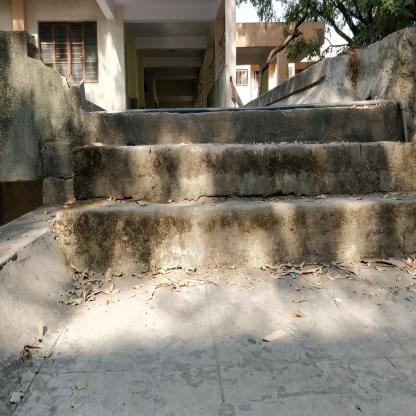stairs: (89, 104, 403, 279)
